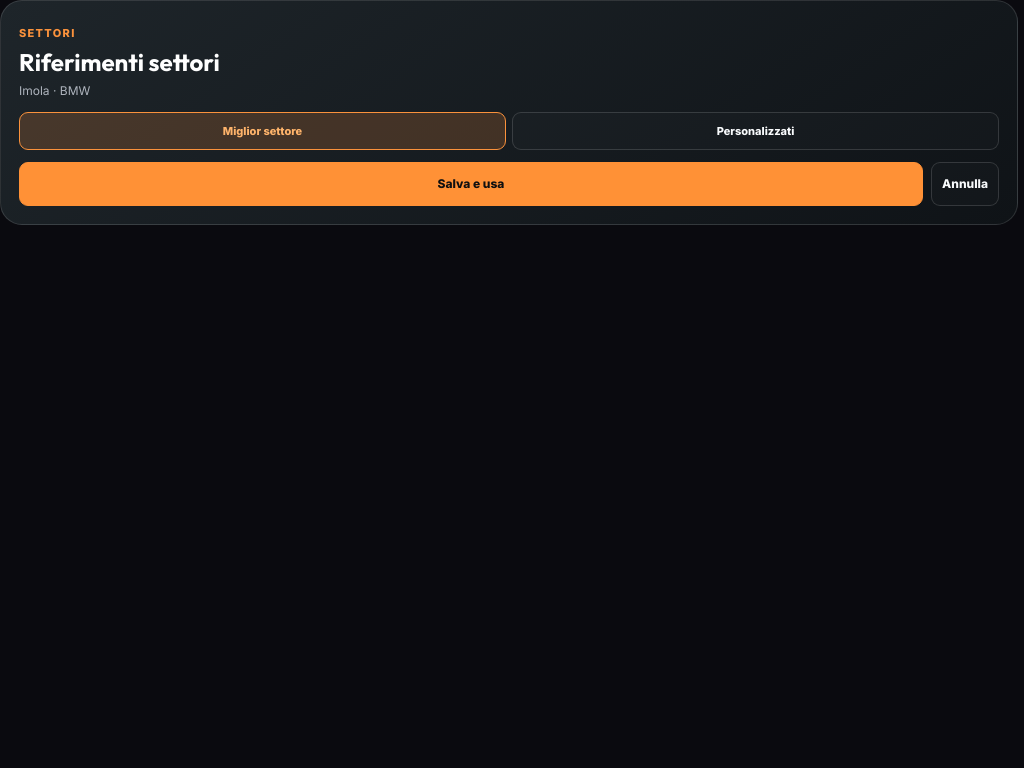
Test: sector reference editor › keeps the editor open and retryable when persistence fails
Click the button "Personalizzati": [756, 131] box 512,112 -> 999,150
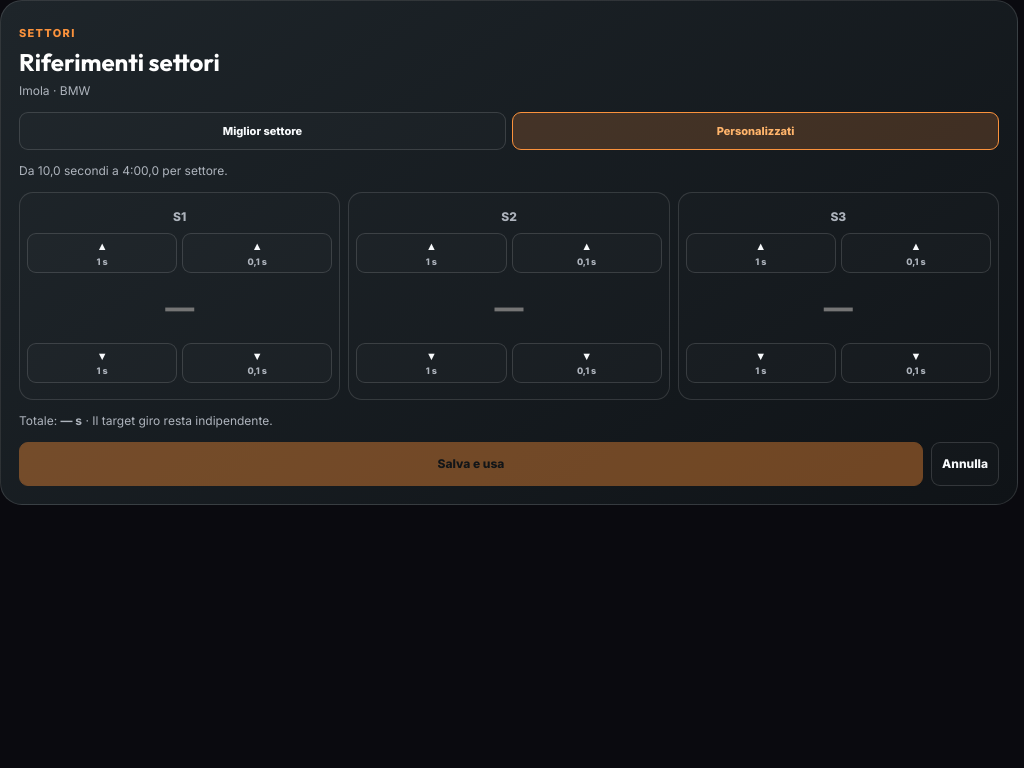
In the field labelled "S1": [180, 308] box 27,279 -> 332,337, type "32,5"
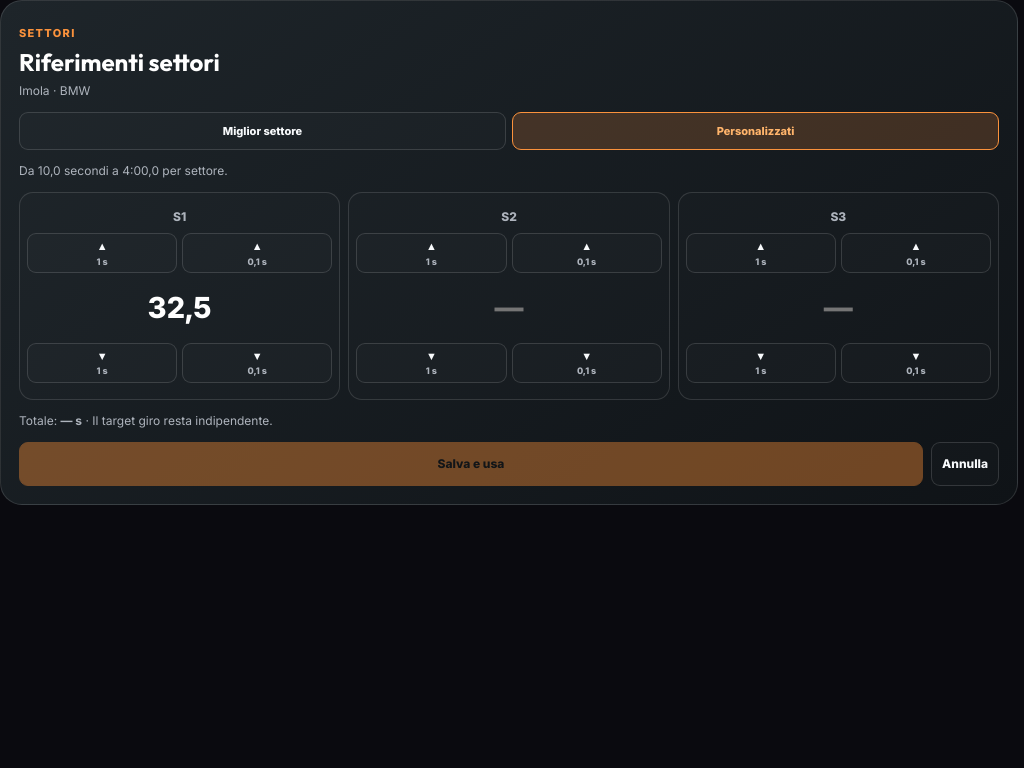
In the field labelled "S2": [509, 308] box 356,279 -> 662,337, type "27.0"
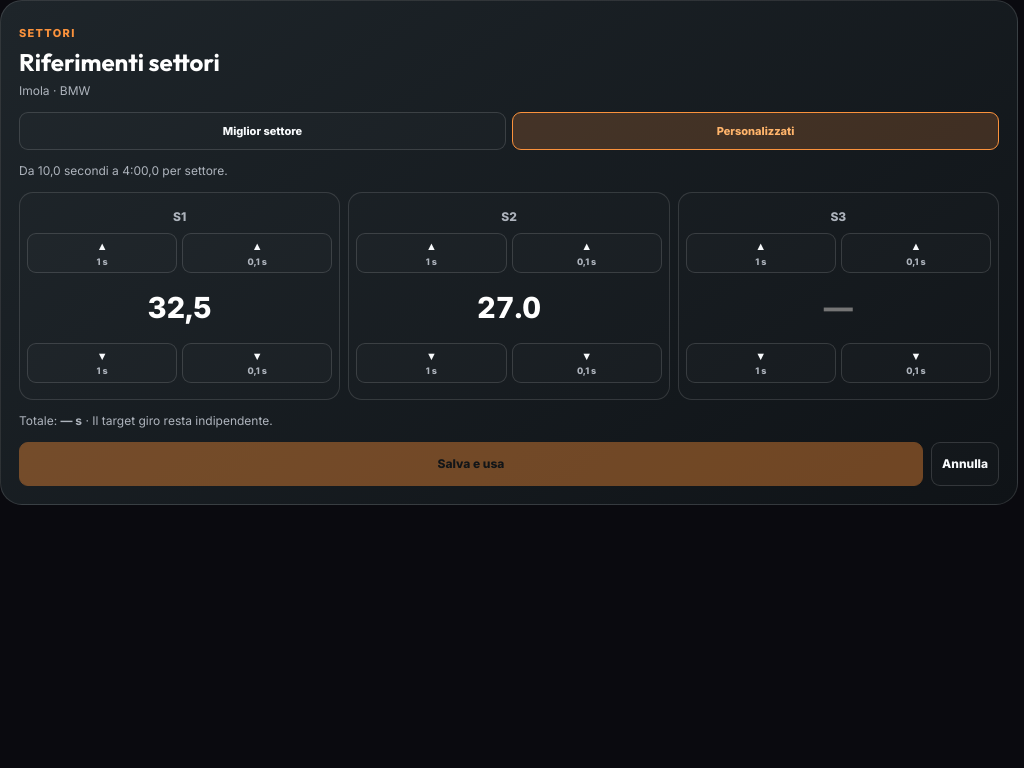
In the field labelled "S3": [838, 308] box 686,279 -> 991,337, type "16,8"
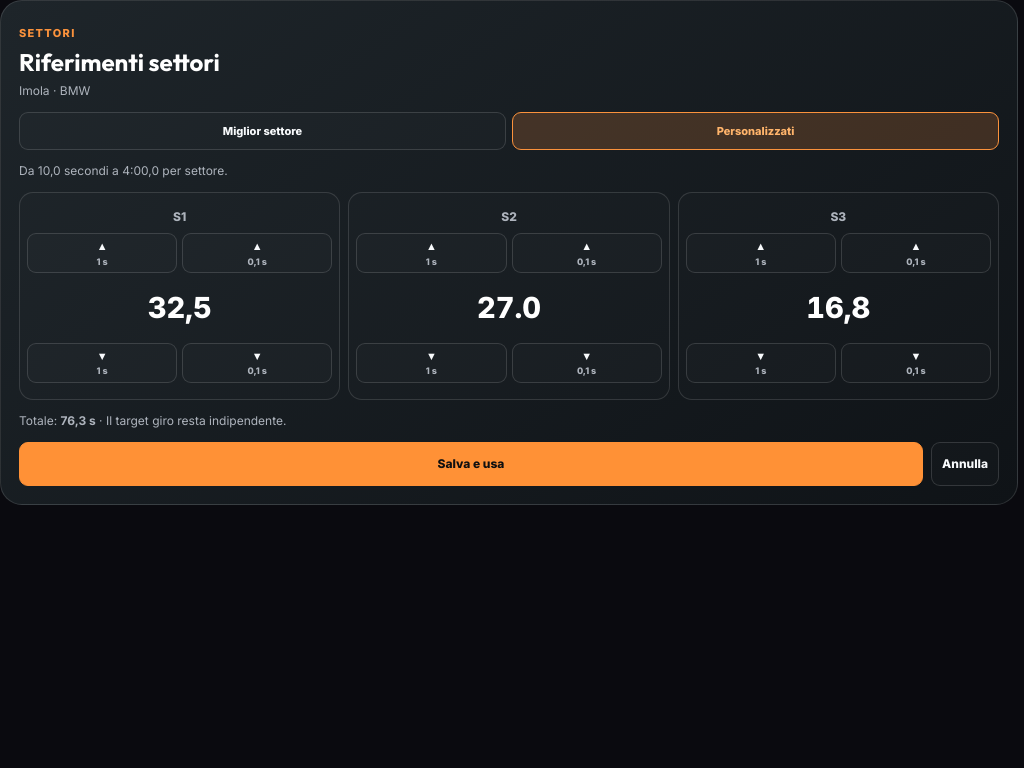
Click the button "Salva e usa": [471, 464] box 19,442 -> 923,486
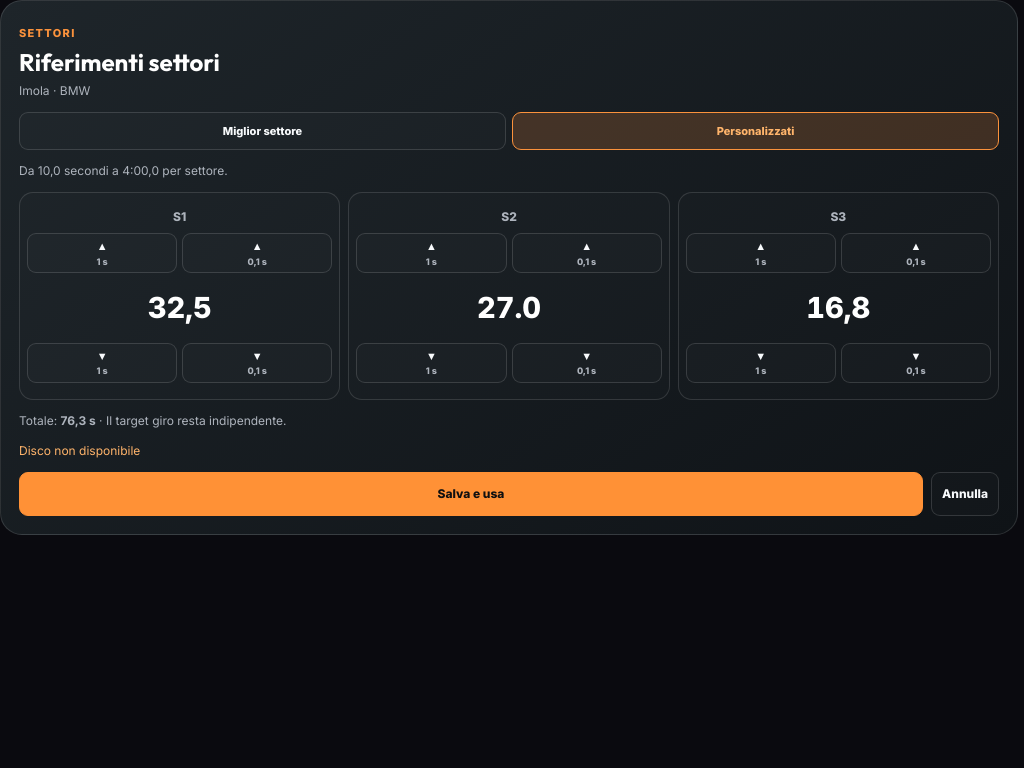
Expected: the text "Disco non disponibile" is shown, 19,443 -> 140,458
